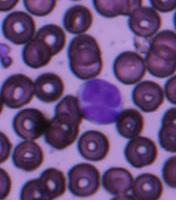M: (78, 76, 124, 124)
